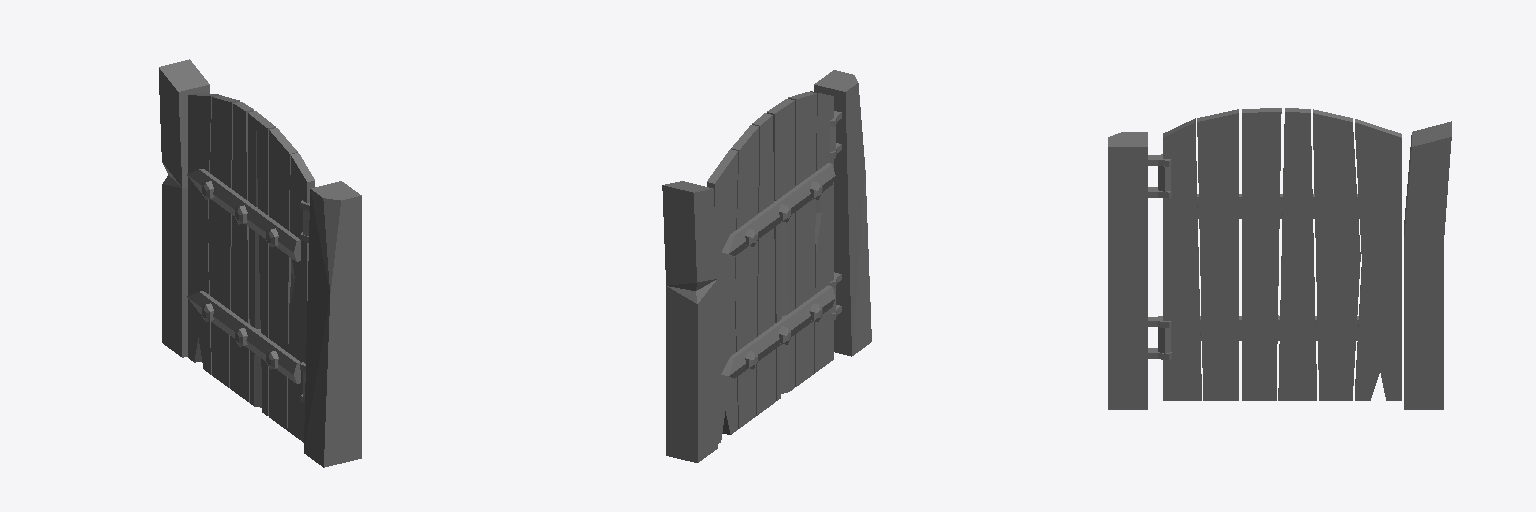
Rendered from gate_01.obj.
The picture shows the model from 3 angles: view 1: azimuth 30°, elevation 25°; view 2: azimuth 150°, elevation 25°; view 3: azimuth 270°, elevation 25°; orthographic projection.
Bounding box in the file's own units: 0.1746 × 1.22 × 1.31.